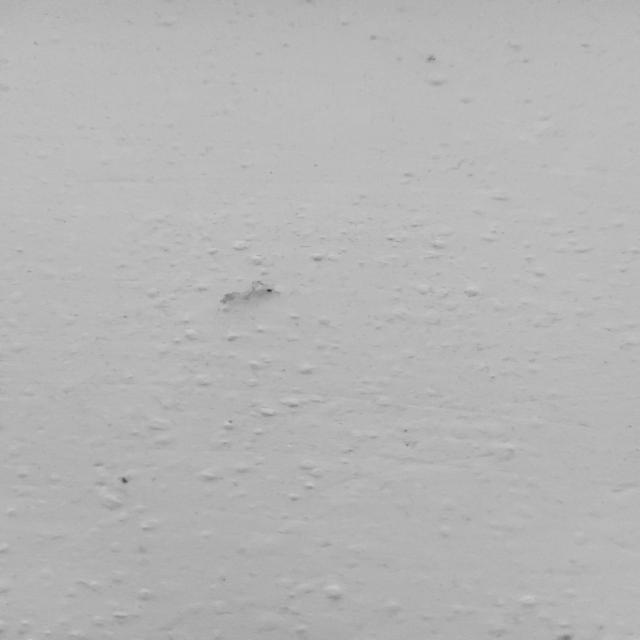rough and patchy surface: (24, 128, 606, 622)
